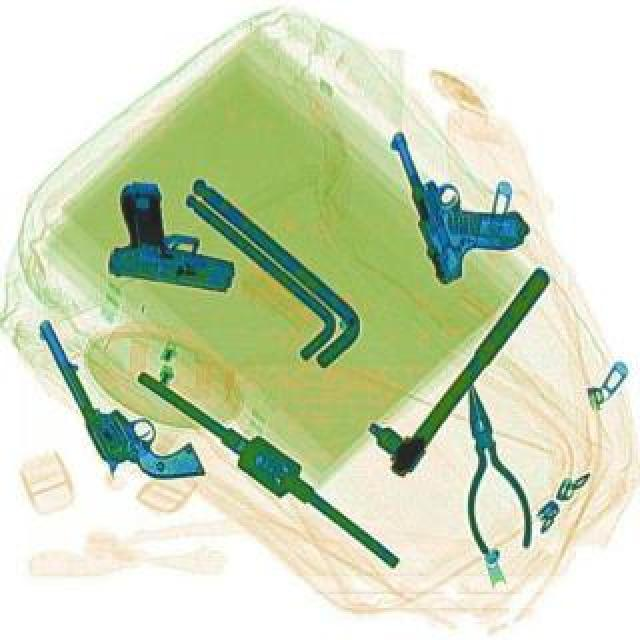gun: (34, 288, 206, 506), (382, 104, 538, 286), (102, 178, 246, 292)
wrench: (438, 372, 538, 556)
